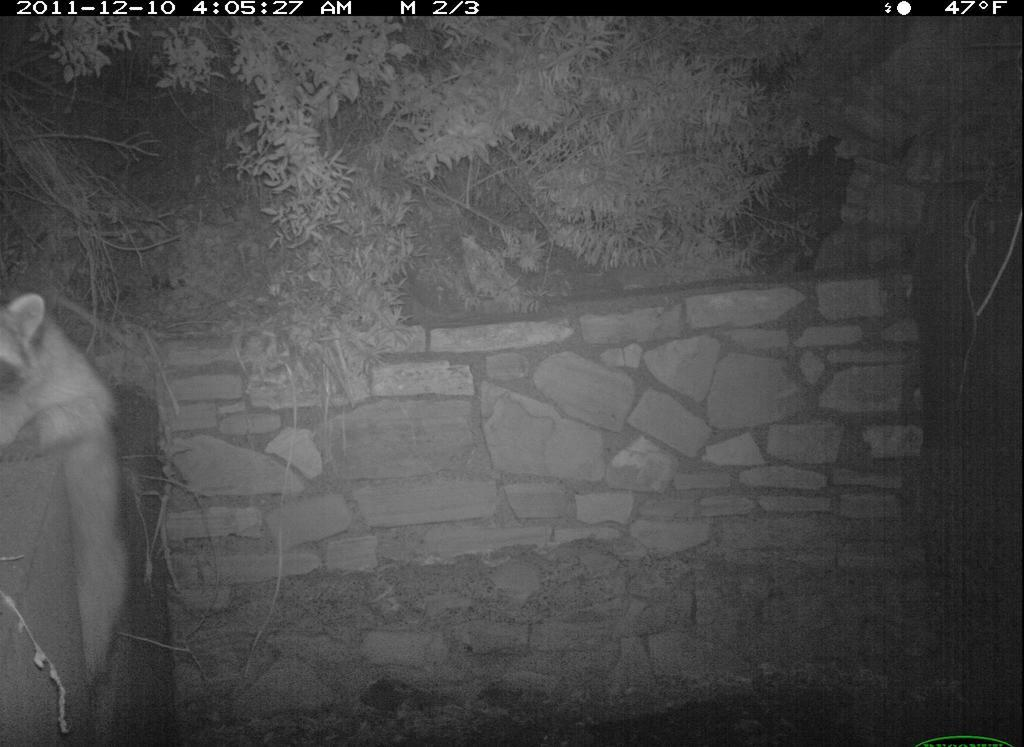raccoon: (2, 281, 132, 681)
